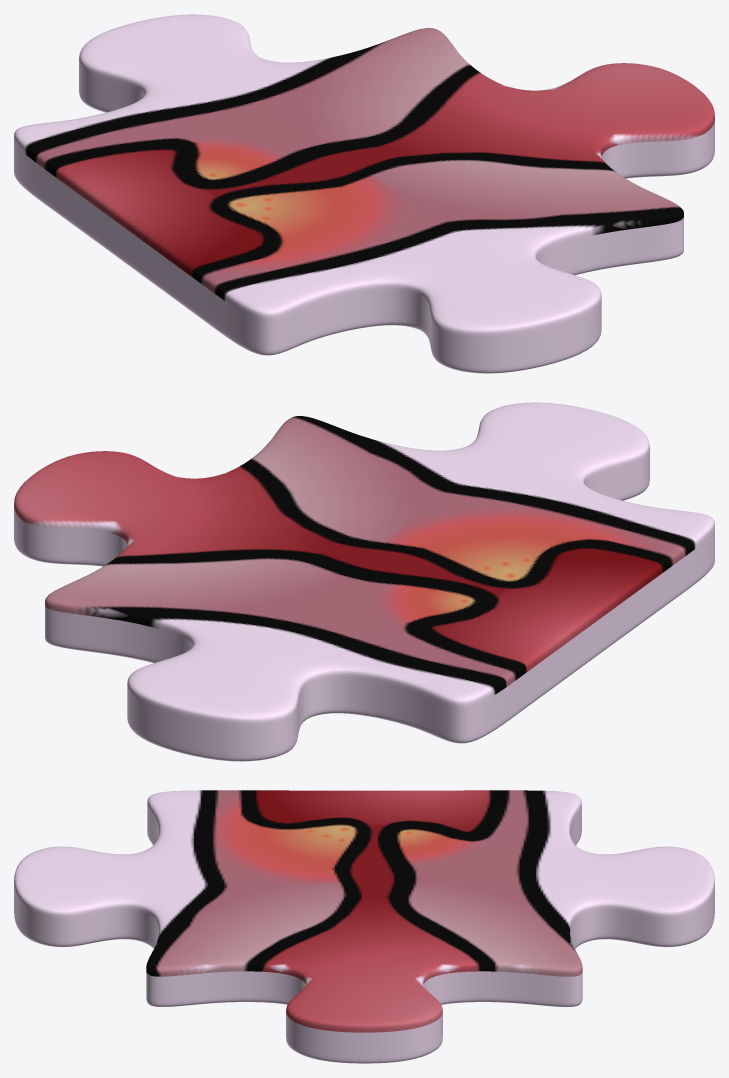
Rendered from Pieza 2.fbx.
3 renders of one model, top to bottom at view 1: azimuth 30°, elevation 25°; view 2: azimuth 150°, elevation 25°; view 3: azimuth 270°, elevation 25°, orthographic. The views are drawn at different scales.
Parts seen in each view (by area): view 1: Plane.001; view 2: Plane.001; view 3: Plane.001.
Boxes of the visible parts, <box> form: Plane.001: <box>14,14,714,373</box>; Plane.001: <box>14,402,714,761</box>; Plane.001: <box>14,790,714,1063</box>.
Bounding box in the file's own units: 60.05 × 5 × 75.3.
